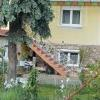stairs: (30, 42, 72, 76)
